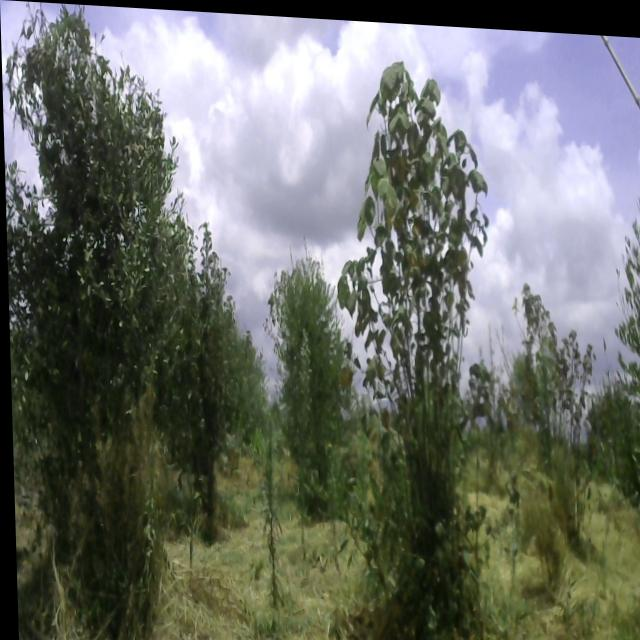other: (329, 47, 497, 640)
